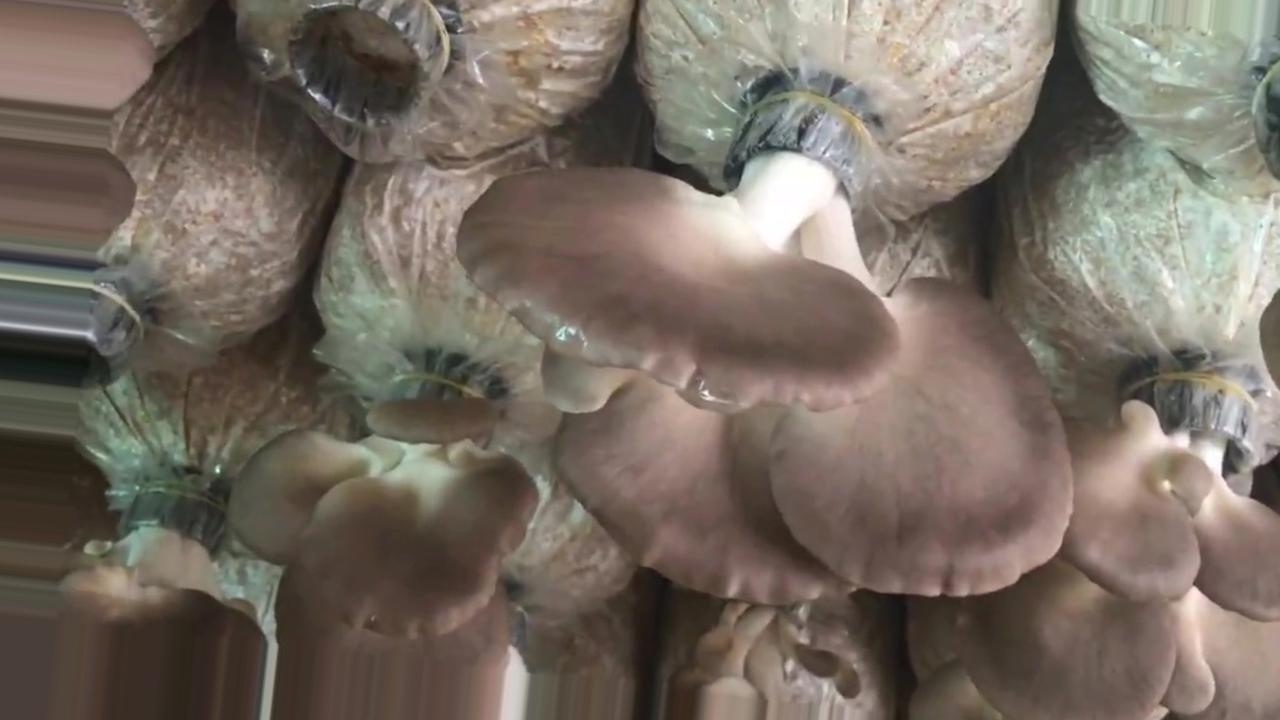nam: (455, 94, 1075, 602), (911, 377, 1279, 720), (231, 373, 541, 720), (1, 496, 264, 718), (1, 1, 157, 246)
